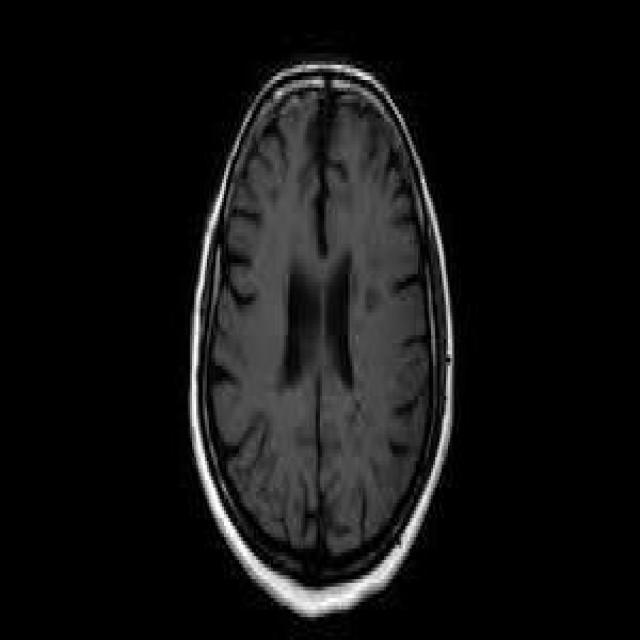notumor: (190, 61, 452, 613)
